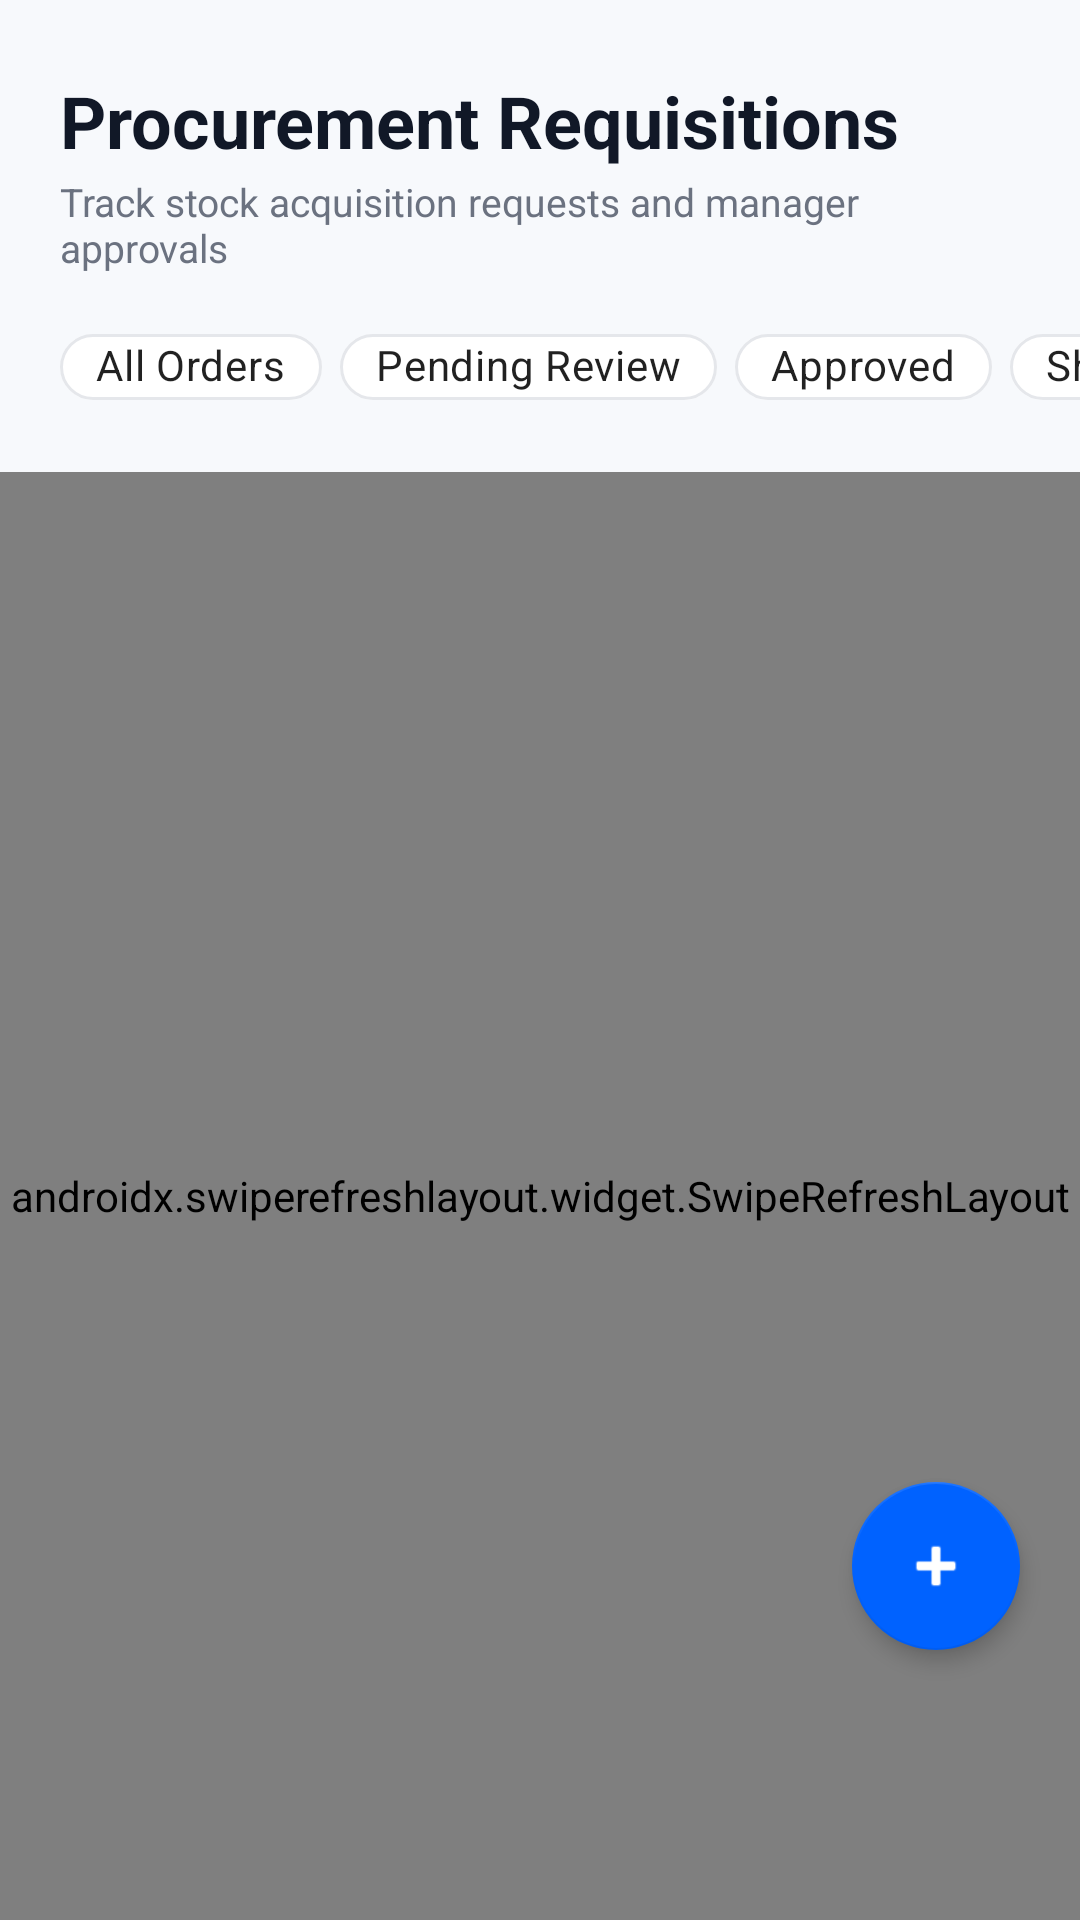

Where icons sit on this 1080px x 1920px app screen, as (x1, y1, x2, y2):
New requisition order request: (852, 1482, 1020, 1650)
